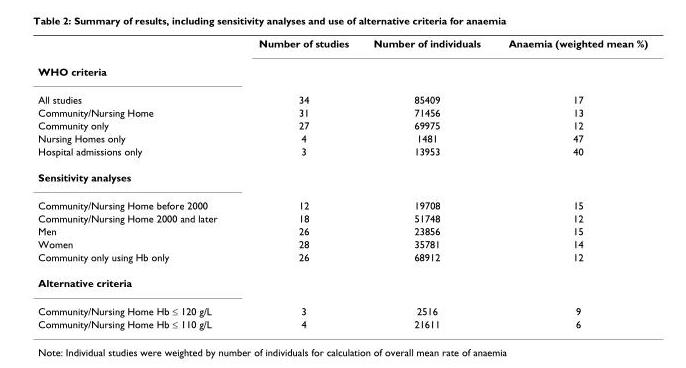table: (37, 36, 647, 329)
table column: (37, 36, 237, 329), (493, 36, 647, 329), (360, 36, 493, 329), (237, 36, 360, 329)
table column header: (37, 36, 647, 56)
table projected row header: (37, 56, 647, 85), (37, 163, 647, 190), (37, 269, 647, 296)
table row: (37, 56, 647, 85), (37, 163, 647, 190), (37, 269, 647, 296), (37, 190, 647, 211), (37, 36, 647, 56), (37, 85, 647, 105), (37, 296, 647, 316), (37, 144, 647, 163), (37, 250, 647, 269), (37, 105, 647, 118), (37, 118, 647, 131), (37, 131, 647, 144), (37, 211, 647, 224), (37, 224, 647, 237), (37, 237, 647, 250), (37, 316, 647, 329)
